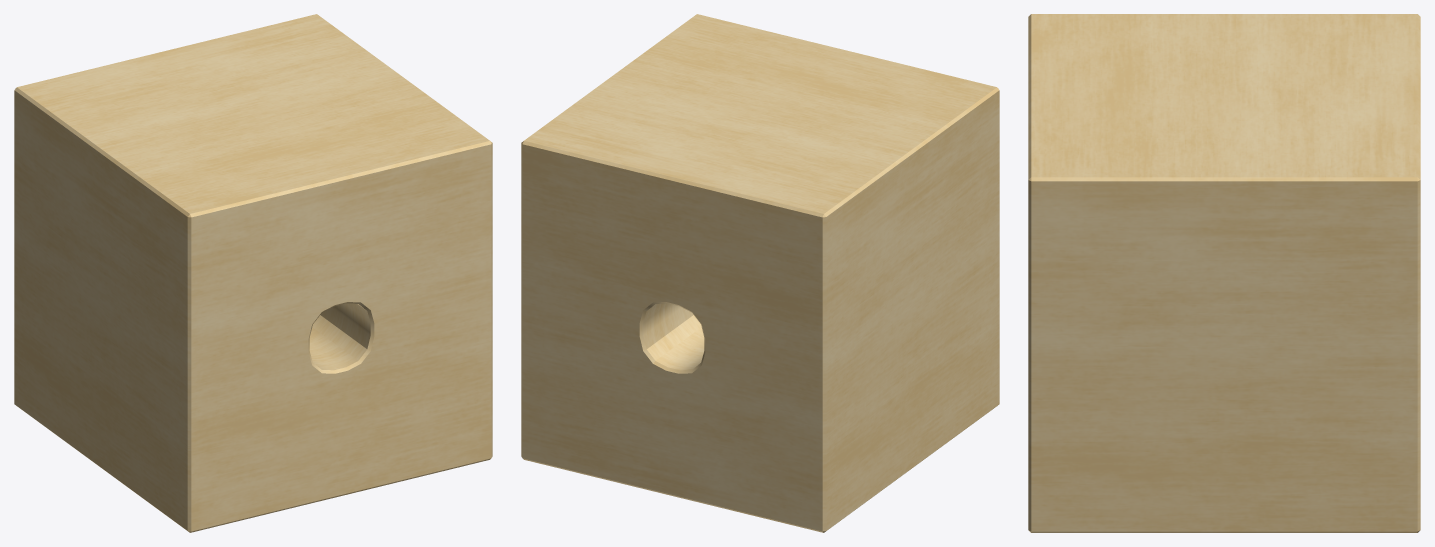
Rendered from TaskBlock1.fbx.
The picture shows the model from 3 angles, left to right: view 1: azimuth 30°, elevation 25°; view 2: azimuth 150°, elevation 25°; view 3: azimuth 270°, elevation 25°; orthographic projection. The views are drawn at different scales.
Visible parts, largest first — view 1: TaskBlock1; view 2: TaskBlock1; view 3: TaskBlock1.
Boxes of the visible parts, x1=… form: TaskBlock1: x1=14, y1=14, x2=492, y2=532; TaskBlock1: x1=521, y1=14, x2=999, y2=532; TaskBlock1: x1=1028, y1=14, x2=1420, y2=532.
Bounding box in the file's own units: 0.5106 × 0.5106 × 0.5106.
1 material, 1 textured.
